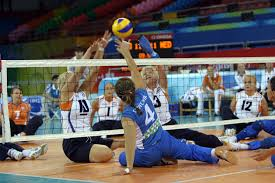ball: (111, 17, 133, 39)
